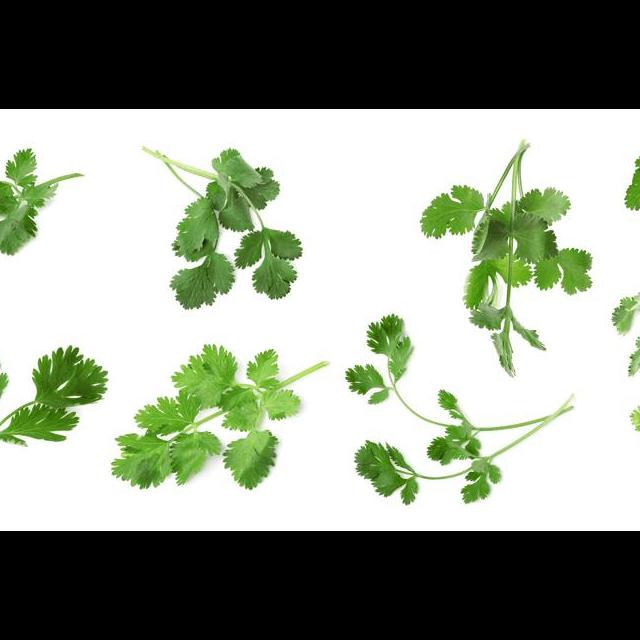cilantro: (344, 312, 575, 505), (419, 138, 593, 377), (111, 342, 329, 490), (140, 144, 303, 310), (0, 333, 108, 482), (0, 145, 83, 257)
